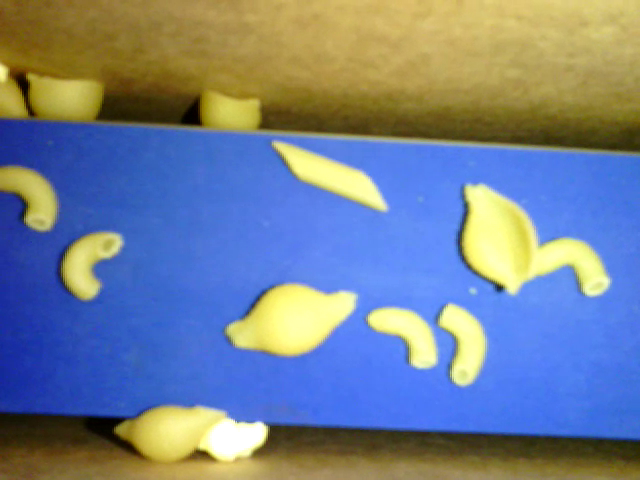elbow: (525, 234, 610, 297), (61, 227, 125, 298), (367, 307, 439, 370), (436, 304, 488, 387), (1, 162, 58, 232)
penne: (273, 140, 387, 212)
shell: (224, 283, 361, 359), (456, 183, 538, 296), (110, 405, 229, 462), (24, 71, 104, 122), (197, 87, 260, 131)
